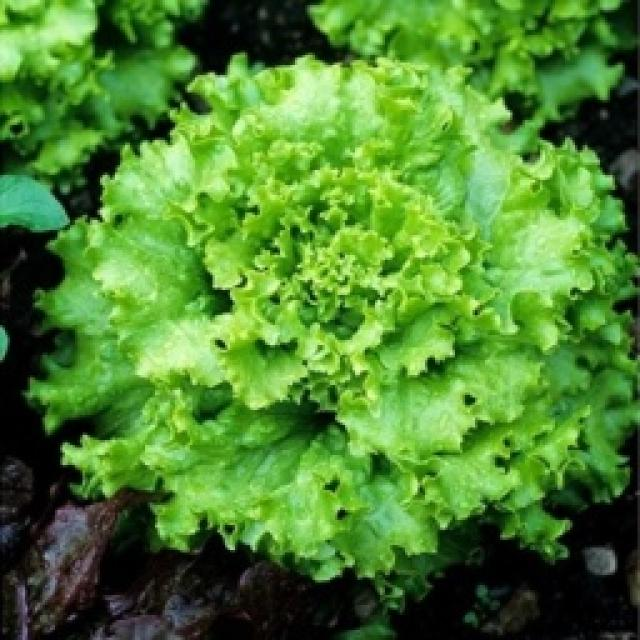Lettuce: (54, 65, 607, 527)
